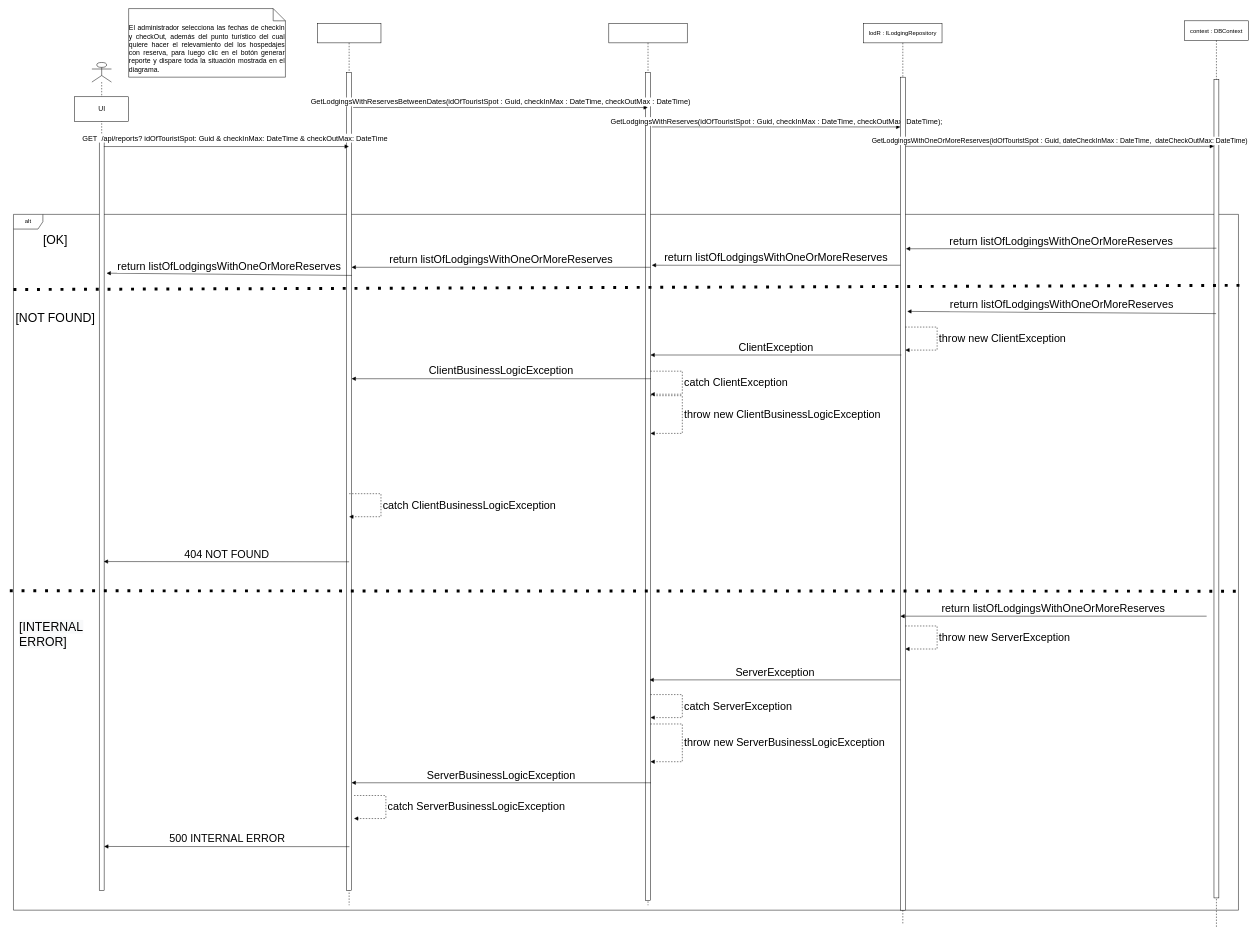
This 1257x936 diagram has some shape labels left out. Each missing label, with the box of its shape:
lod : ILodgingManagement: (608, 23, 687, 905)
rep: ReportController: (317, 23, 381, 905)
